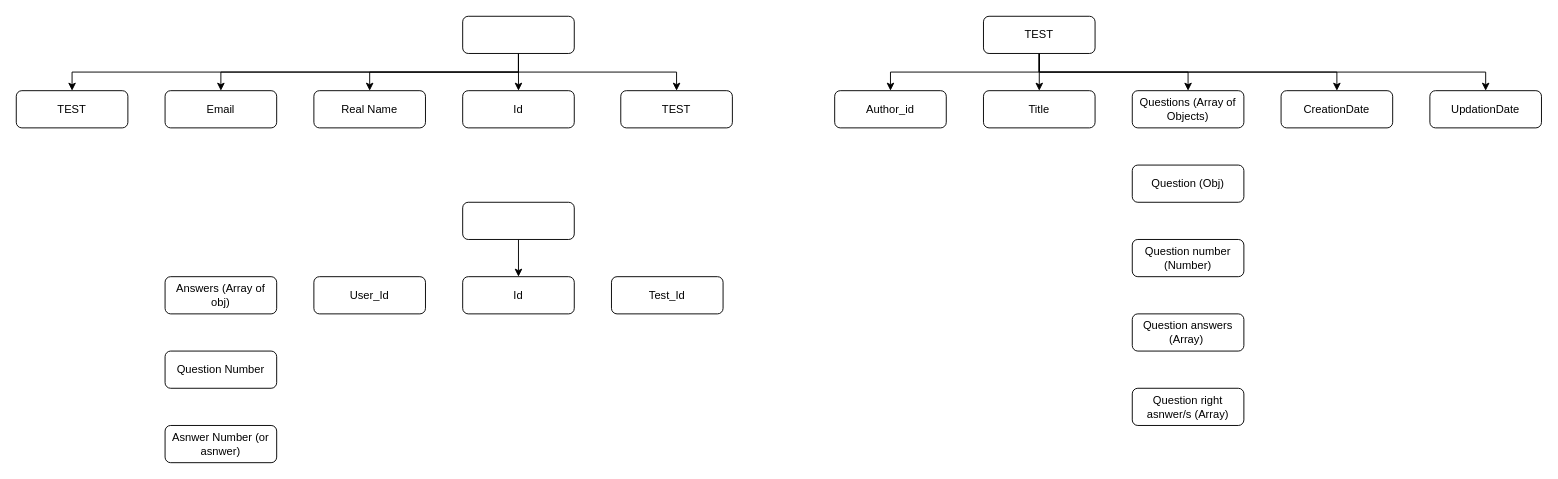
Some shapes in this 1558 by 479 pixel diagram are drawn without their labels. The shapes that lost their labels are listed below. From the top down, each one's box as (x1, y1, x2, y2) in pixels, then its label:
(462, 15, 574, 53): USER
(462, 201, 574, 239): ANSWER
